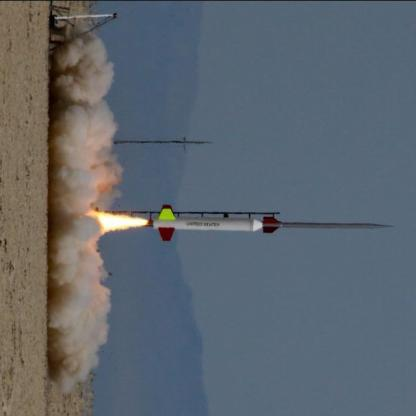MIL_TBM: (151, 203, 397, 243), (153, 206, 275, 241), (260, 212, 401, 235)
